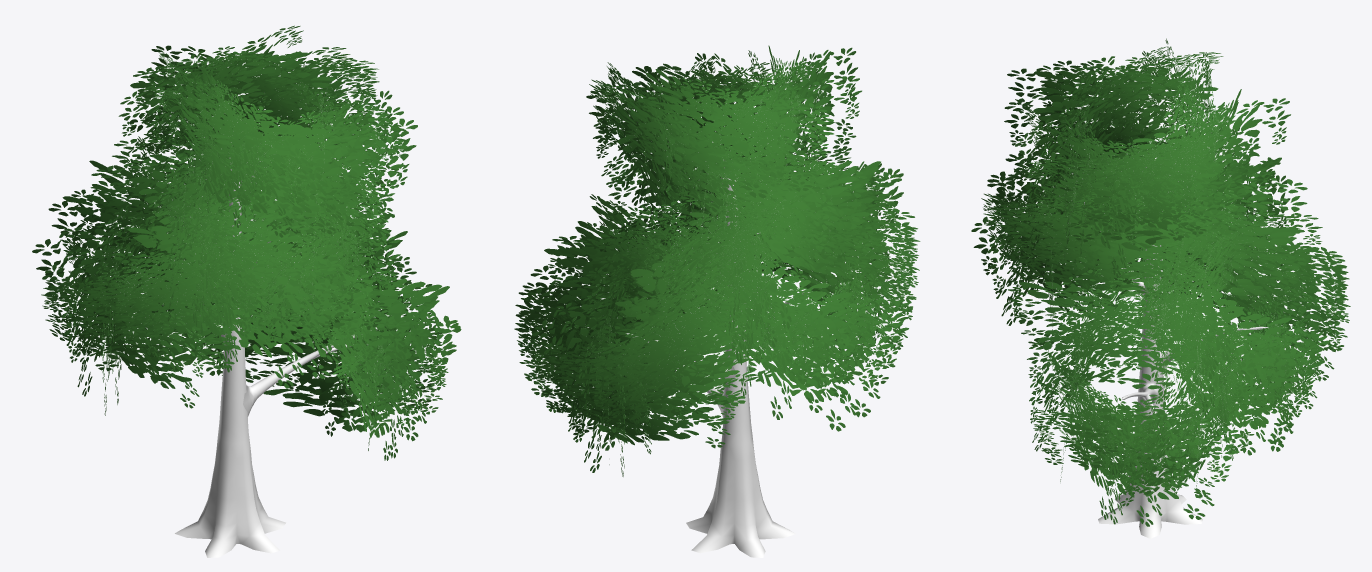
The model's file is Tree_Obj.obj.
The picture shows the model from 3 angles, left to right: view 1: azimuth 30°, elevation 25°; view 2: azimuth 150°, elevation 25°; view 3: azimuth 270°, elevation 25°; orthographic projection. The views are drawn at different scales.
Visible parts, largest first — view 1: tree_cowl, object 1; view 2: tree_cowl, object 1; view 3: tree_cowl, object 1.
Boxes of the visible parts, left/top/right/bottom form: tree_cowl: left=32, top=25, right=461, bottom=460; object 1: left=148, top=157, right=377, bottom=557; tree_cowl: left=514, top=45, right=920, bottom=476; object 1: left=626, top=141, right=812, bottom=557; tree_cowl: left=971, top=38, right=1350, bottom=526; object 1: left=1098, top=157, right=1268, bottom=538.
Size of the model in its own units: 583 by 681 by 547.
